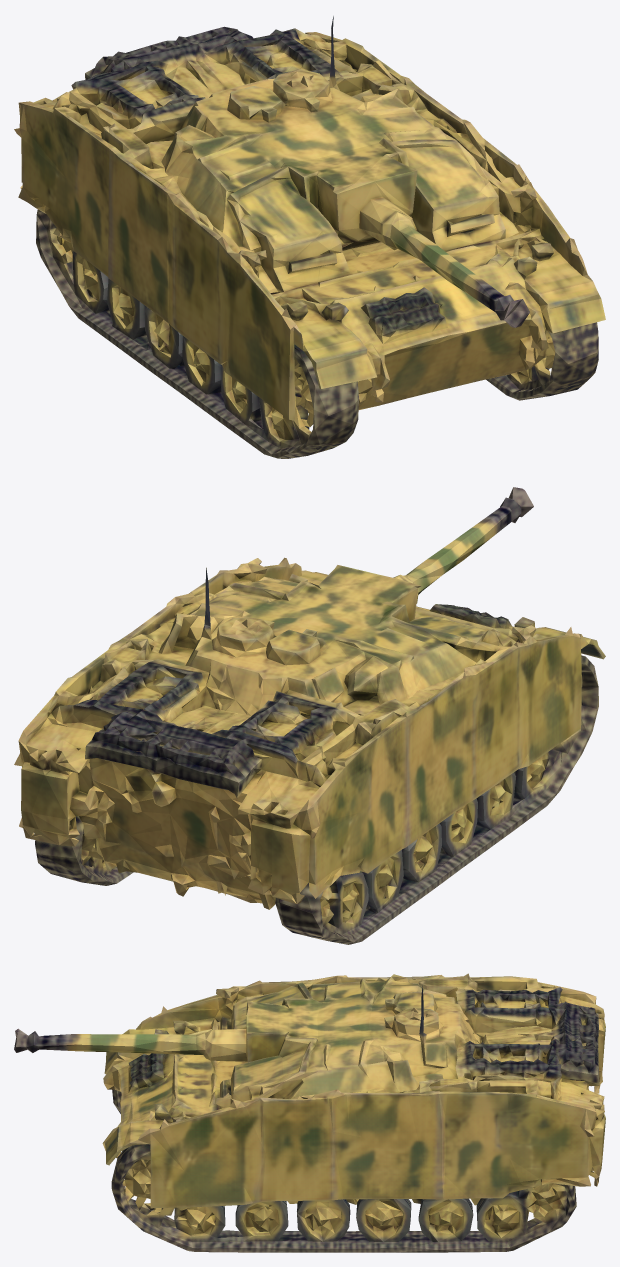
Rendered from stug_hull.obj.
3 renders of one model, top to bottom at view 1: azimuth 30°, elevation 25°; view 2: azimuth 150°, elevation 25°; view 3: azimuth 270°, elevation 25°, orthographic. The views are drawn at different scales.
Visible parts, largest first — view 1: stug_hull; view 2: stug_hull; view 3: stug_hull.
Boxes of the visible parts, <box> form: stug_hull: <box>14,16,605,458</box>; stug_hull: <box>14,487,605,944</box>; stug_hull: <box>14,973,605,1252</box>.
Bounding box in the file's own units: 3.28 × 3.02 × 6.8.
Materials: 1 (1 with a texture image).
